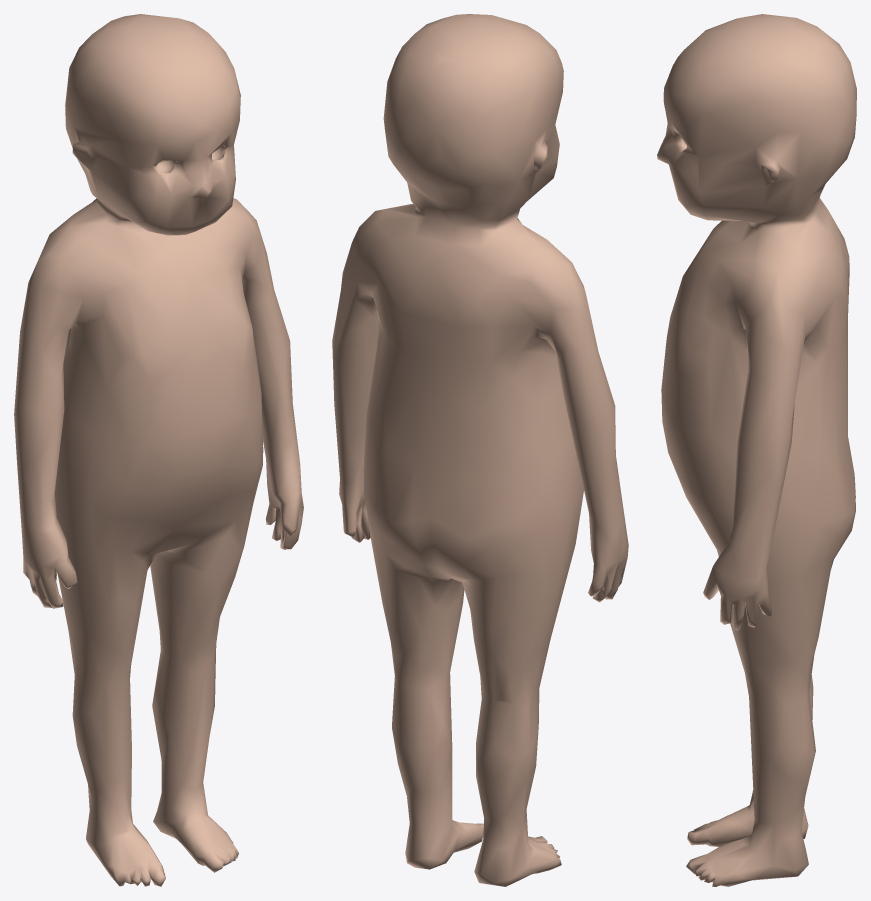
The model's file is pediatric_infant_female.surface.LOD3.glb.
The picture shows the model from 3 angles, left to right: view 1: azimuth 30°, elevation 25°; view 2: azimuth 150°, elevation 25°; view 3: azimuth 270°, elevation 25°; orthographic projection. The views are drawn at different scales.
Parts seen in each view (by area): view 1: PEDIATRIC.INFANT.FEMALE.SURFACE.SKIN; view 2: PEDIATRIC.INFANT.FEMALE.SURFACE.SKIN; view 3: PEDIATRIC.INFANT.FEMALE.SURFACE.SKIN.
Boxes of the visible parts, <box> form: PEDIATRIC.INFANT.FEMALE.SURFACE.SKIN: <box>14,14,303,886</box>; PEDIATRIC.INFANT.FEMALE.SURFACE.SKIN: <box>332,14,628,886</box>; PEDIATRIC.INFANT.FEMALE.SURFACE.SKIN: <box>657,14,856,886</box>.
Size of the model in its own units: 0.2613 by 0.7598 by 0.1653.
